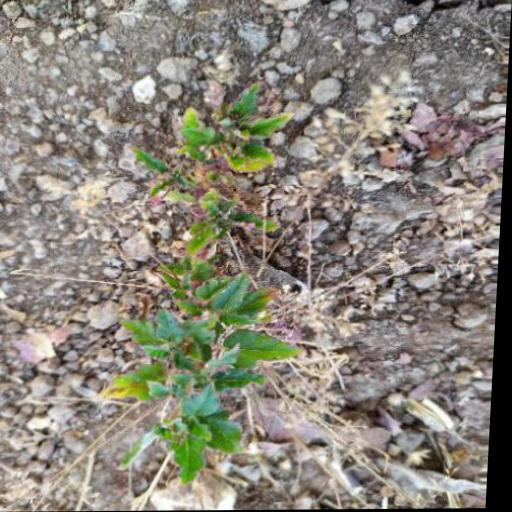weed: (108, 96, 310, 511)
